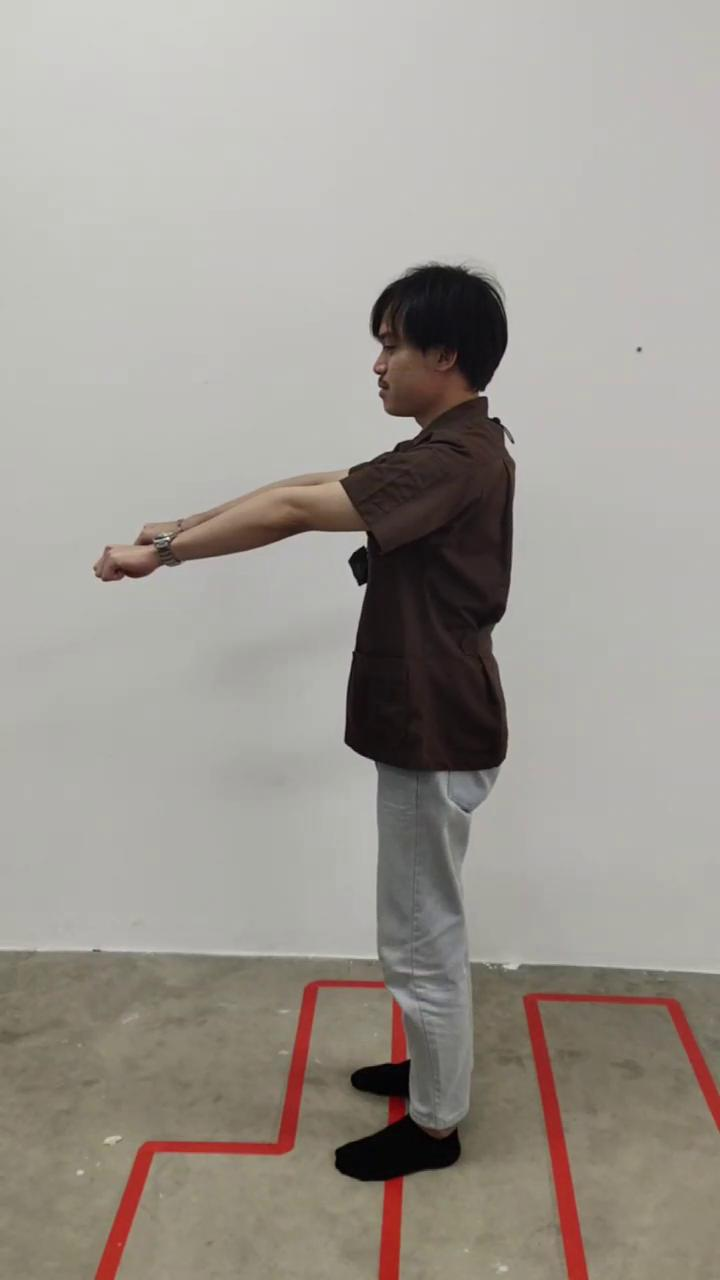squat up: (95, 262, 515, 1180)
